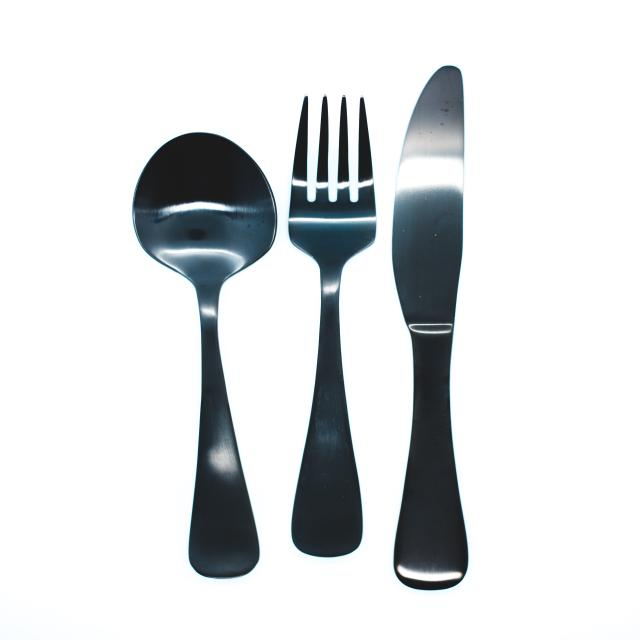Metal: (132, 29, 504, 591)
